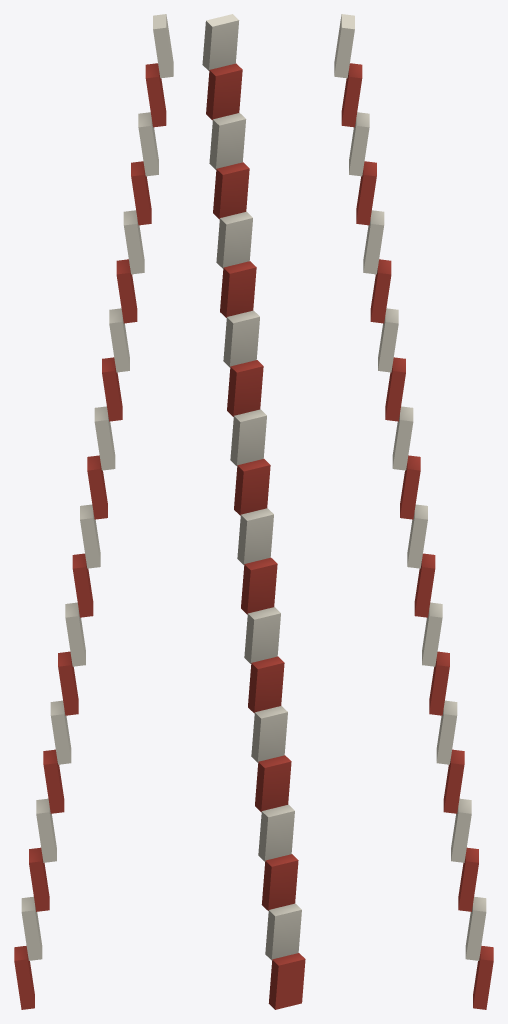
File: level_staff.glb
3 views of the same model, side by side, from view 1: azimuth 90°, elevation 25°; view 2: azimuth 210°, elevation 25°; view 3: azimuth 270°, elevation 25° (orthographic). The views are drawn at different scales.
Visible parts, largest first — view 1: static; view 2: static; view 3: static.
Part boxes in pixels (x1,y1,x2,y2): static: (14, 14, 173, 1009); static: (202, 14, 305, 1009); static: (334, 14, 493, 1009).
Bounding box in the file's own units: 0.06 × 2 × 0.2948.
